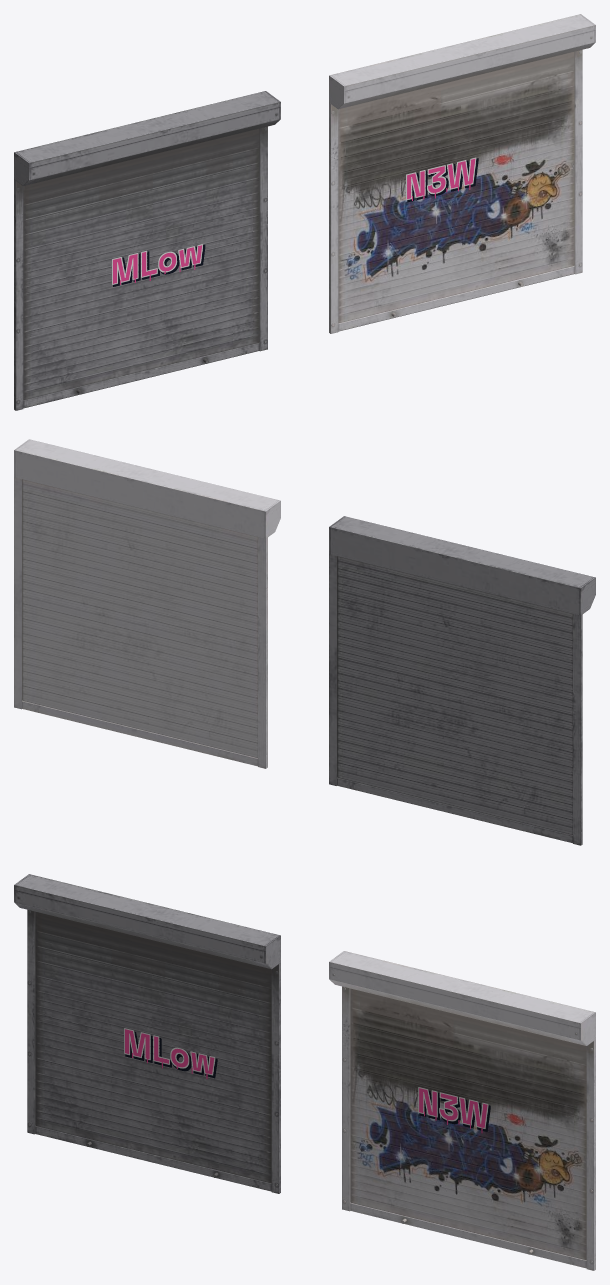
File: nyb_dundee_shutter.glb
3 renders of one model, top to bottom at view 1: azimuth 30°, elevation 25°; view 2: azimuth 150°, elevation 25°; view 3: azimuth 330°, elevation 25°, orthographic.
Visible parts, largest first — view 1: rollershutter_window_02, stk_tag_mlow.png, stk_tag_n3w.png; view 2: rollershutter_window_02; view 3: rollershutter_window_02, stk_tag_mlow.png, stk_tag_n3w.png.
Part boxes in pixels (x1,y1,x2,y2): rollershutter_window_02: [14, 14, 595, 410]; stk_tag_mlow.png: [112, 244, 205, 286]; stk_tag_n3w.png: [406, 157, 478, 202]; rollershutter_window_02: [14, 439, 595, 845]; rollershutter_window_02: [14, 874, 595, 1270]; stk_tag_mlow.png: [124, 1028, 217, 1079]; stk_tag_n3w.png: [418, 1087, 490, 1133].
Bounding box in the file's own units: 3.6 × 1.56 × 0.1681.
Materials: 4 (4 with a texture image).
